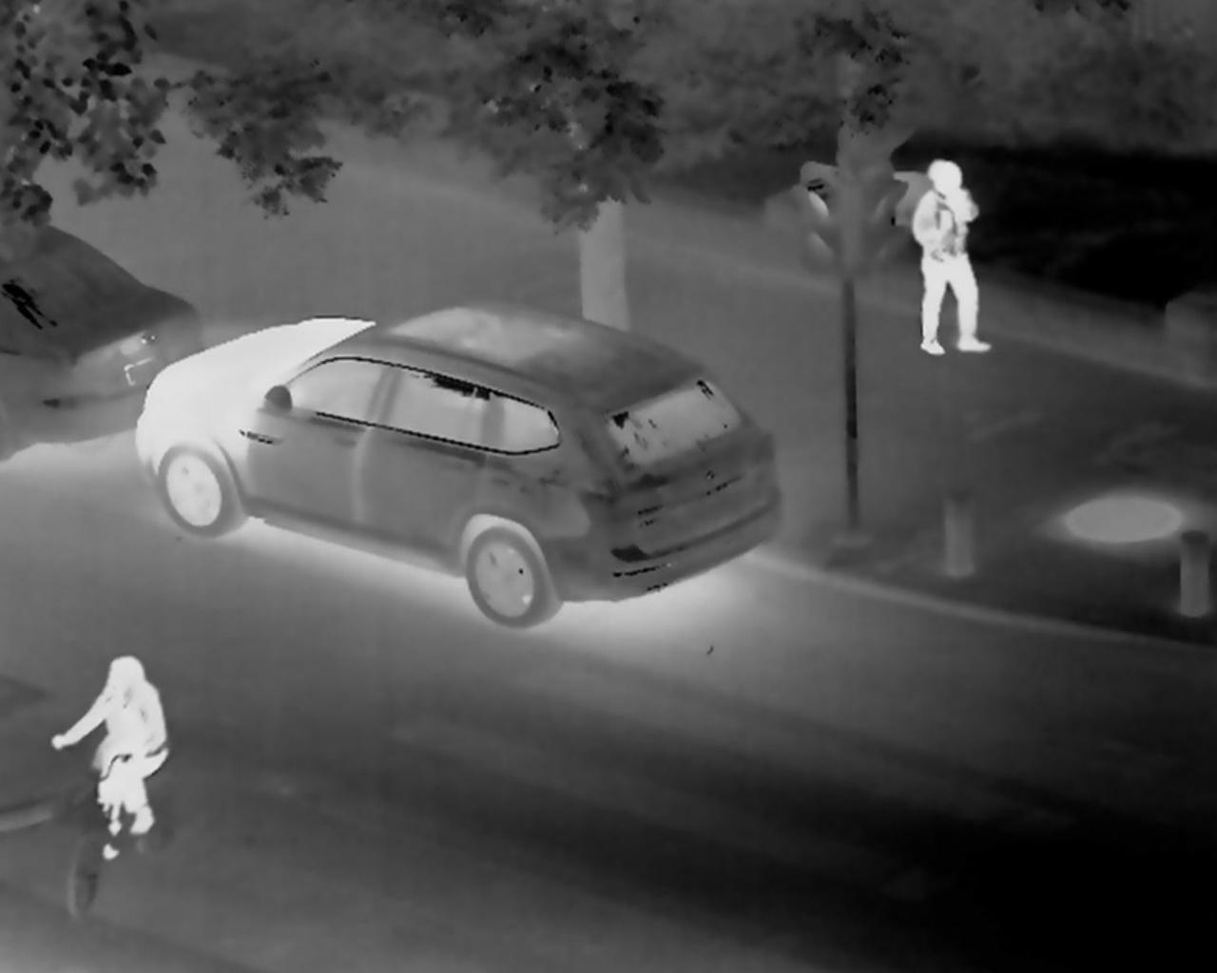person: (45, 652, 173, 861), (906, 157, 993, 357)
